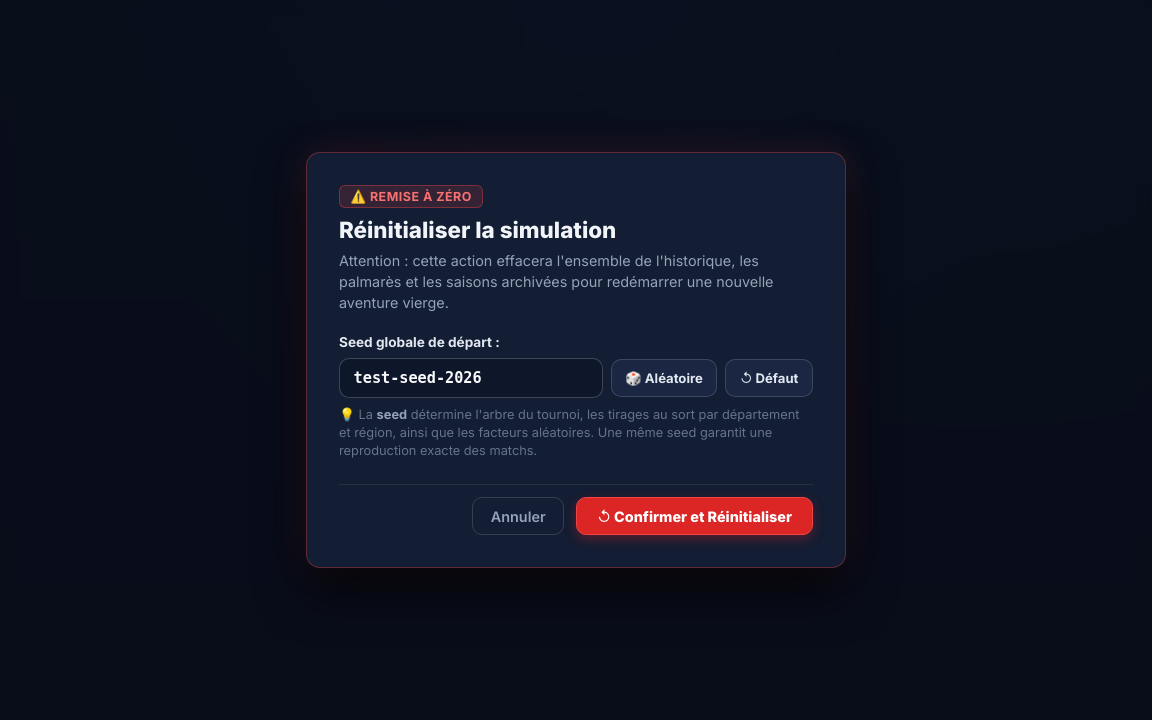
Test: ResetModal › generates a random seed when clicking Aléatoire
Click the button "🎲 Aléatoire": (664,378) [611,359,717,398]
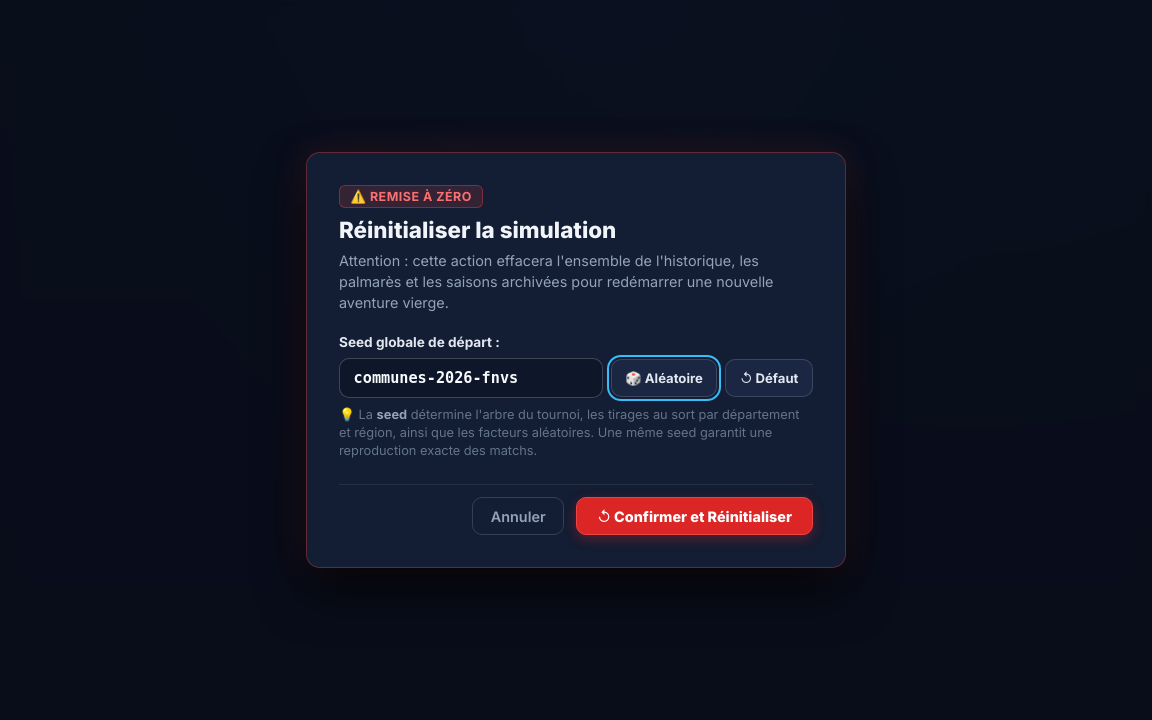
Check: the field labelled "Seed globale de départ :" does not hold "test-seed-2026", box [339,358,603,398]
